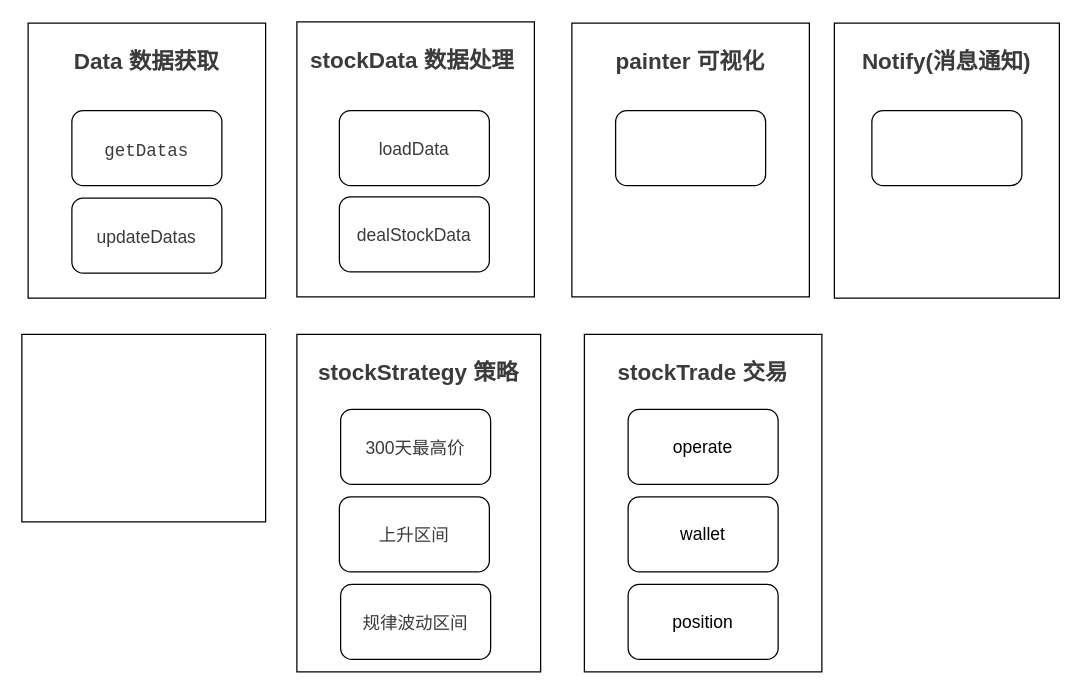
Some shapes in this 1081 by 694 pixel diagram are drawn without their labels. Here are the shapes that lost their labels. From the top down, the centre of each, then its label:
At point 690,147: "gnuplot".
At point 946,147: "WeChat".
At point 143,427: "TradeTest 交易回测".
